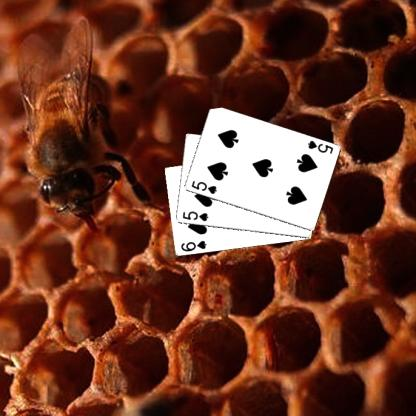5S: (188, 178, 218, 196), (305, 139, 334, 156), (180, 208, 209, 223)
6S: (178, 238, 208, 253)
